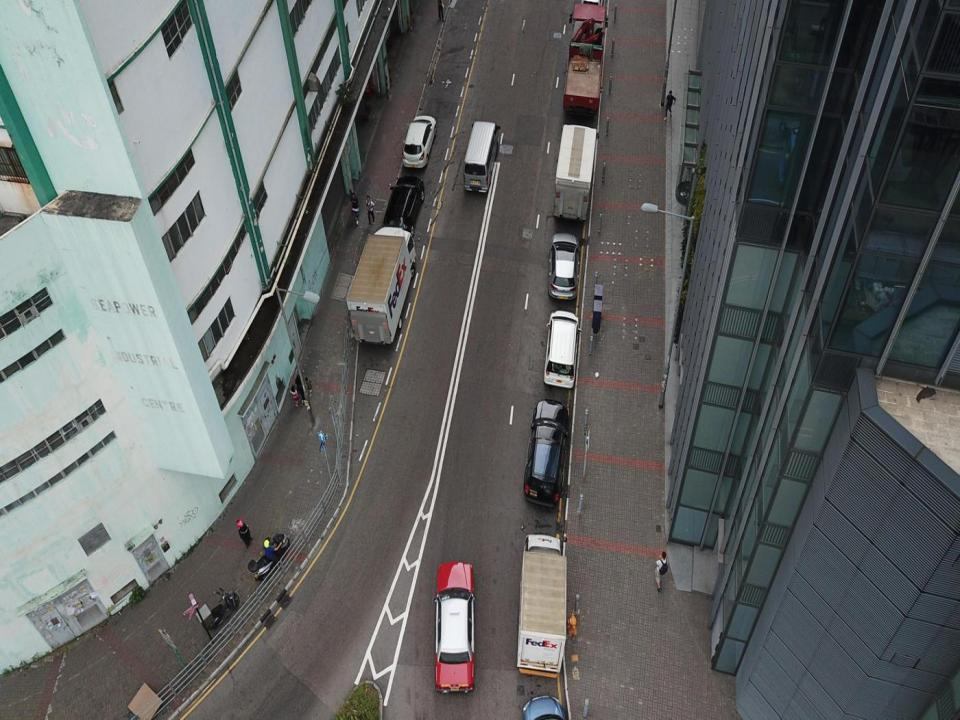car: (432, 559, 477, 694), (523, 400, 570, 509), (543, 307, 582, 389), (382, 174, 424, 236), (545, 230, 580, 302), (402, 113, 437, 171)
truck: (344, 226, 418, 344), (516, 524, 568, 680), (562, 2, 606, 121), (552, 121, 597, 223)
van: (461, 120, 502, 194)
